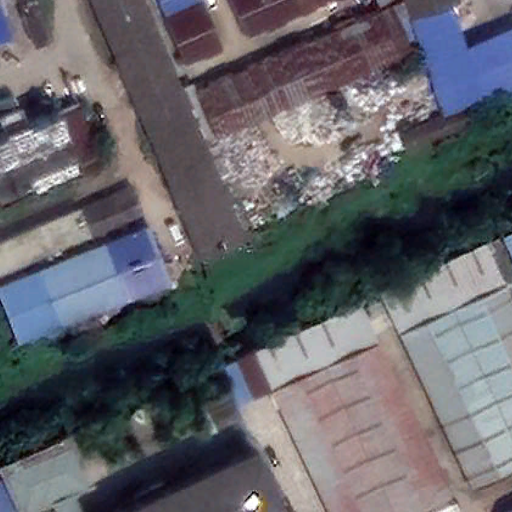msw: (217, 74, 441, 222)
